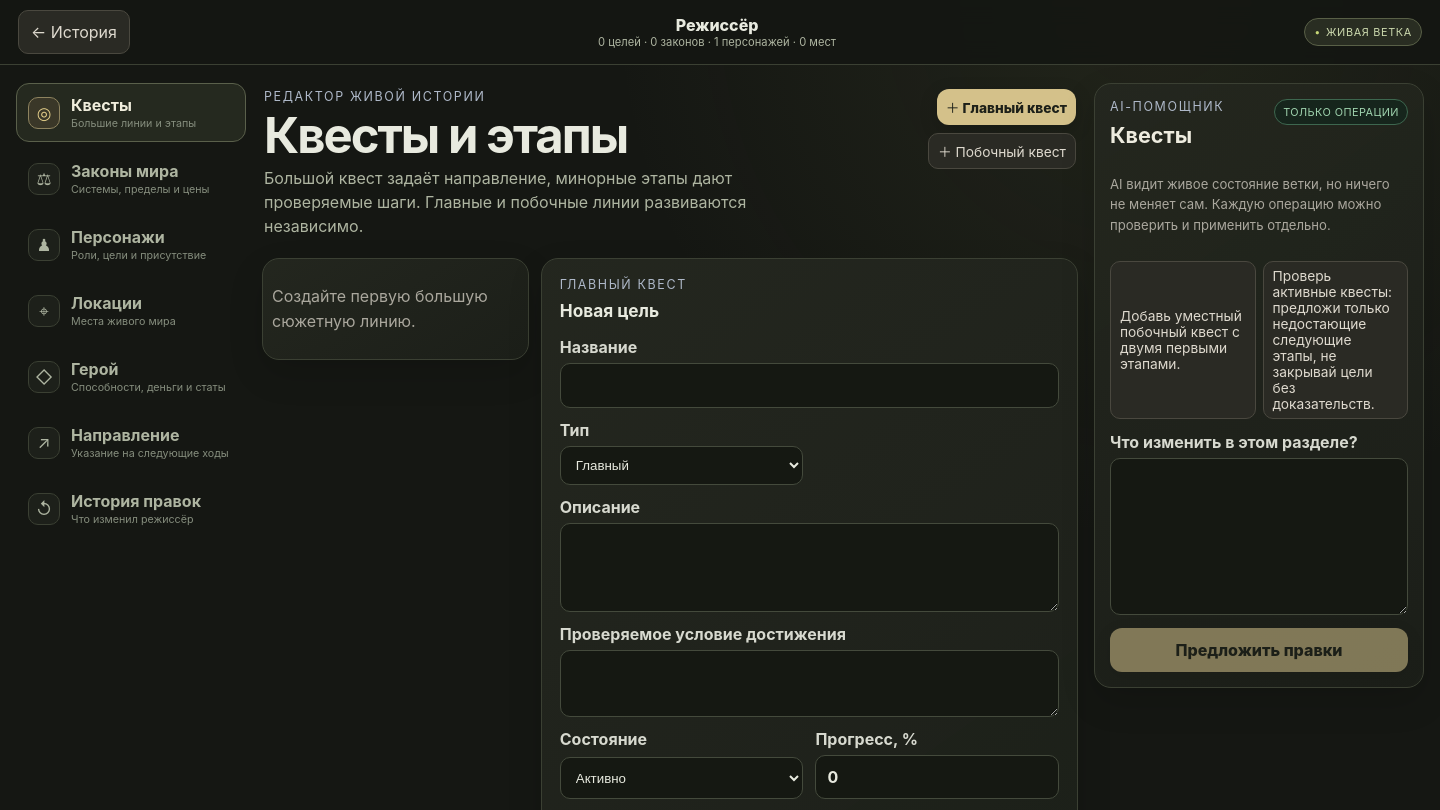
Test: director edits saved directions and the complete hero state
This screenshot has width=1440, height=810.
Expected: the heading "Квесты и этапы" is shown, [264,106,627,165]
What coordinates should you click on to do the following:
click the button "◇ Герой Способности, деньги и статы"
I would click on:
 (131, 376)
Its box is [16,347,246,406].
(page scrolled)
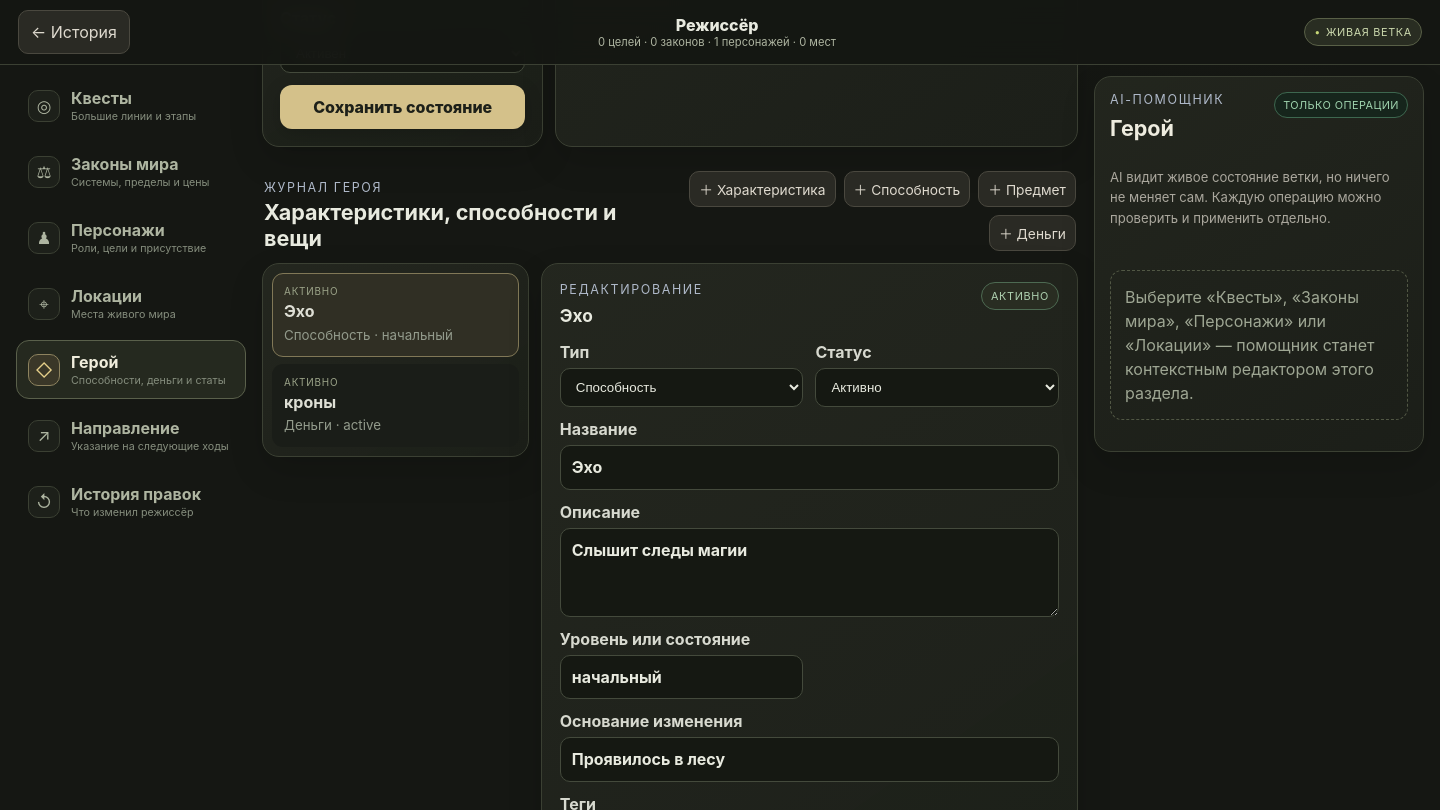
Expected: the button "Сохранить состояние" is shown, [280,85,525,129]
What coordinates should you click on to do the following:
click the button "Активно кроны Деньги · active"
I would click on:
 (395, 406)
Its box is [272,364,519,448].
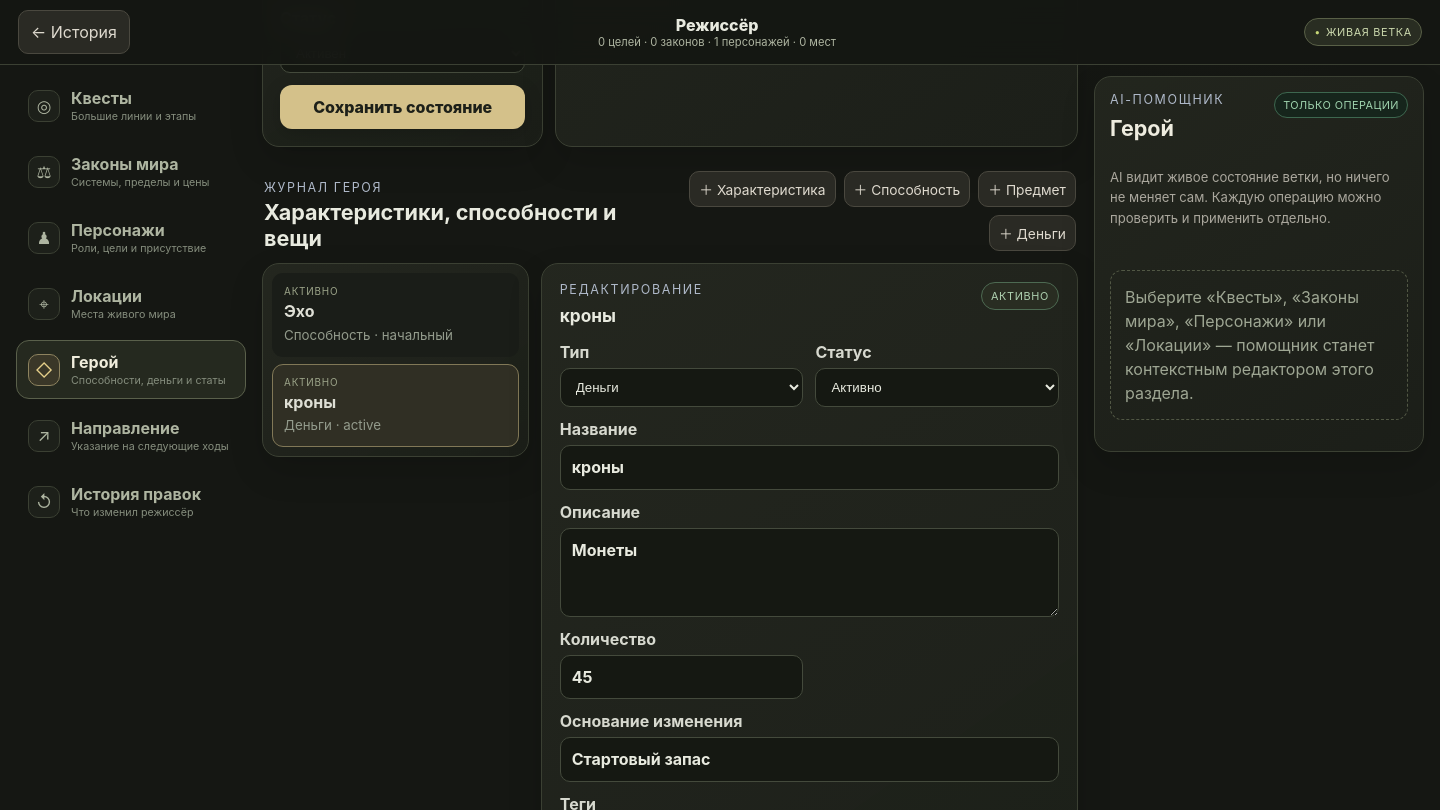
Expected: the number field showing "45" is shown, [560,655,803,699]
What coordinates should you click on to do the following:
click the button "↗ Направление Указание на следующие ходы"
I would click on:
 (131, 436)
Its box is [16,406,246,465].
(page scrolled)
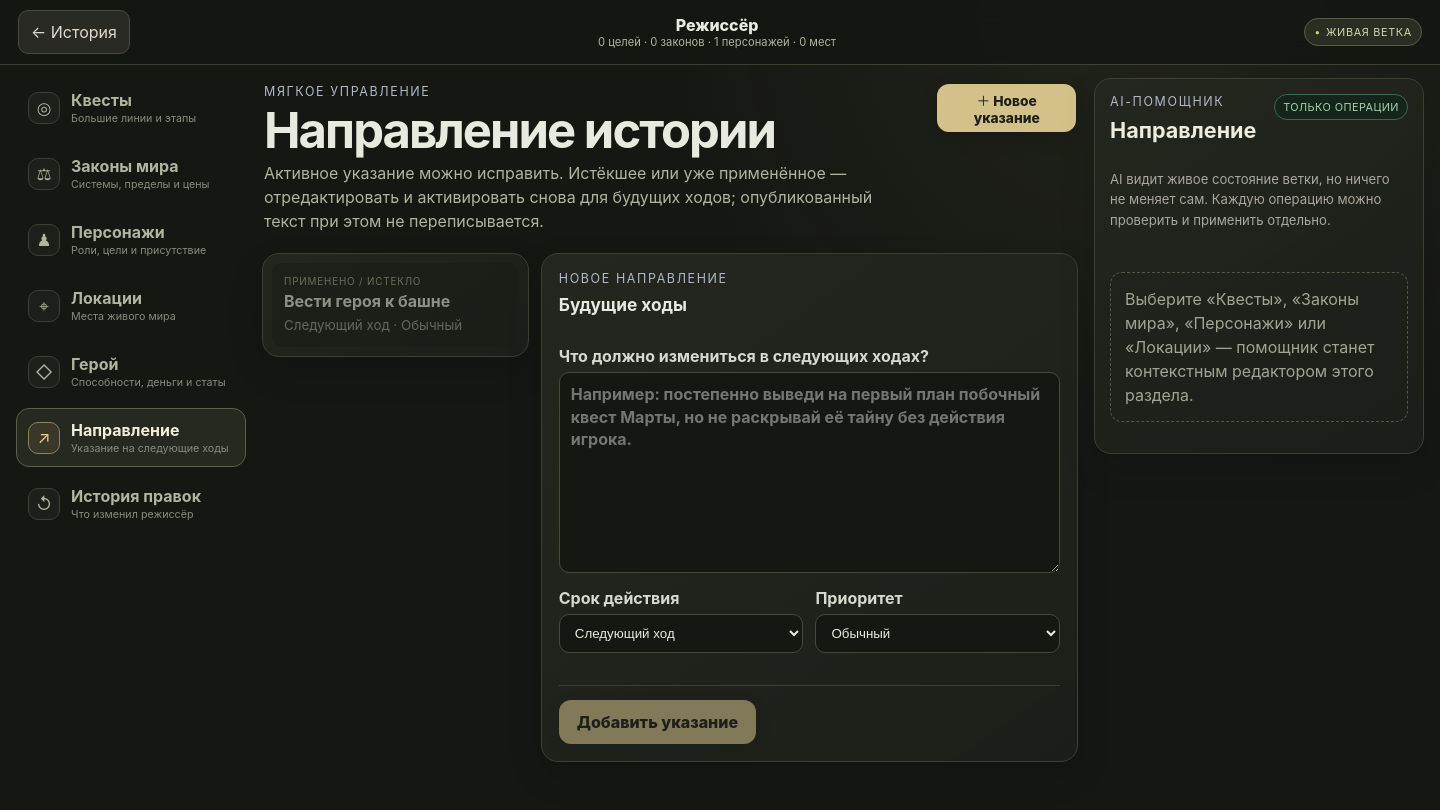
Expected: the heading "Направление истории" is shown, [264,101,775,160]
What coordinates should you click on to do the following:
click the button "Вести героя к башне"
I would click on:
 (395, 305)
Its box is [272,263,519,347].
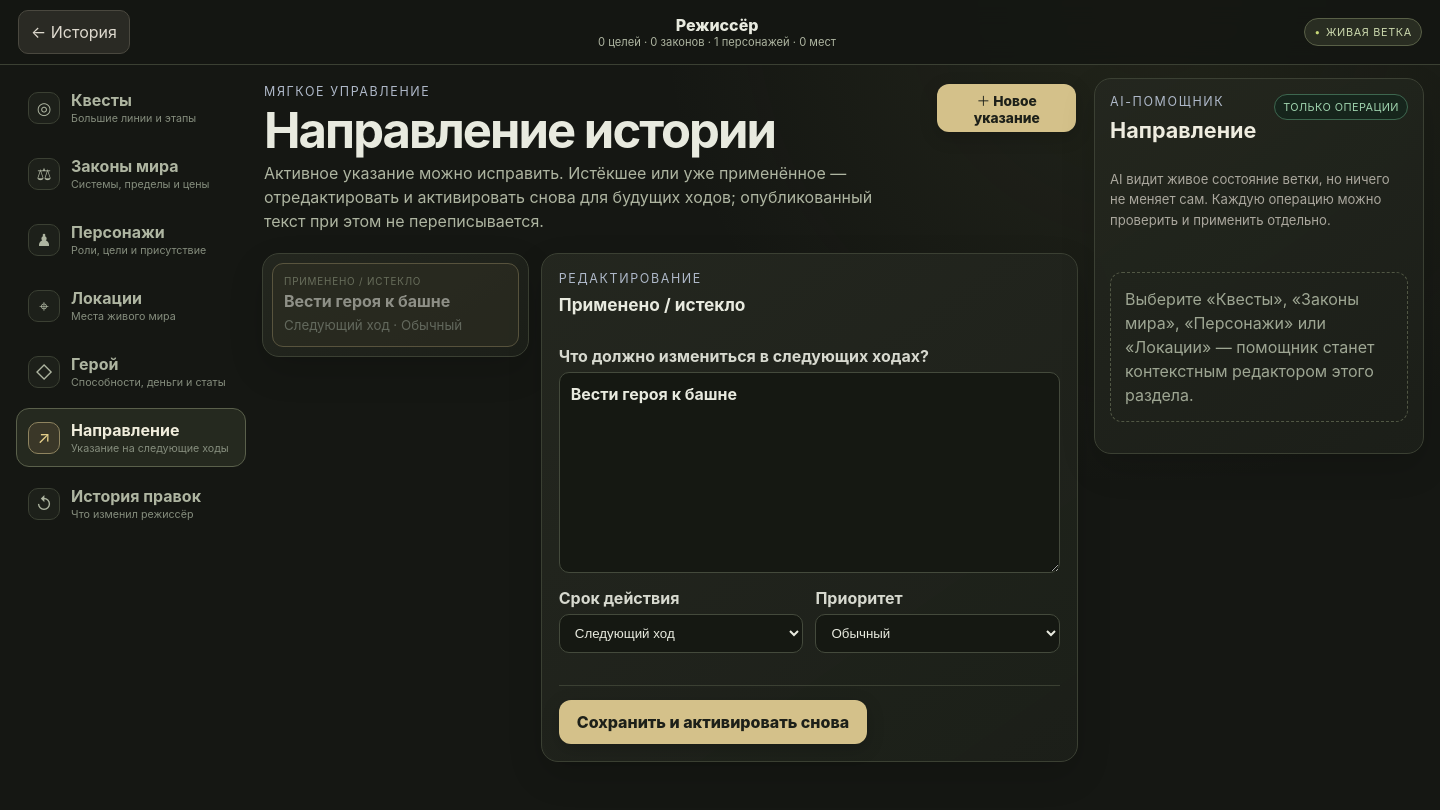
Expected: the text box showing "Вести героя к башне" is shown, [559,372,1060,574]
Expected: the button "Сохранить и активировать снова" is shown, [559,700,867,744]
